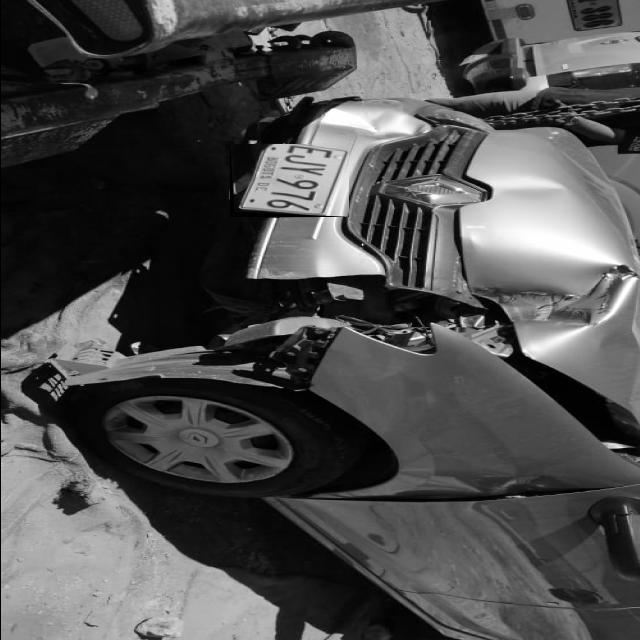plate: (232, 144, 347, 216)
